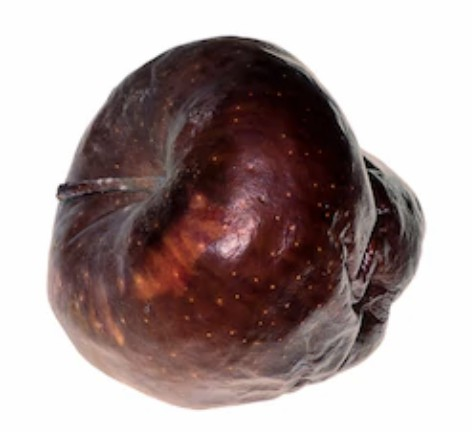rotten_apple: (48, 35, 425, 409)
